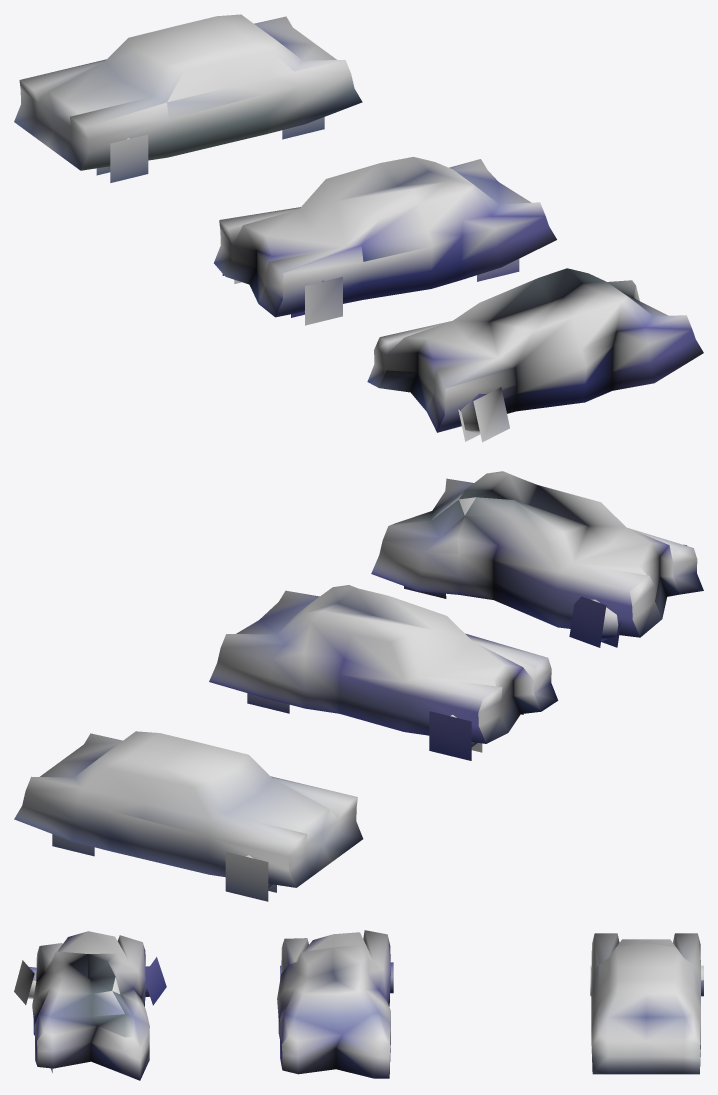
Rendered from CheckerPSX.fbx.
The picture shows the model from 3 angles, top to bottom: view 1: azimuth 30°, elevation 25°; view 2: azimuth 150°, elevation 25°; view 3: azimuth 270°, elevation 25°; orthographic projection. The views are drawn at different scales.
Visible parts, largest first — view 1: Checker.002; view 2: Checker.002; view 3: Checker.002.
Part boxes in pixels (x1,y1,x2,y2): Checker.002: [14, 14, 703, 442]; Checker.002: [14, 471, 703, 901]; Checker.002: [14, 930, 703, 1080].
Bounding box in the file's own units: 613 × 210 × 1632.
